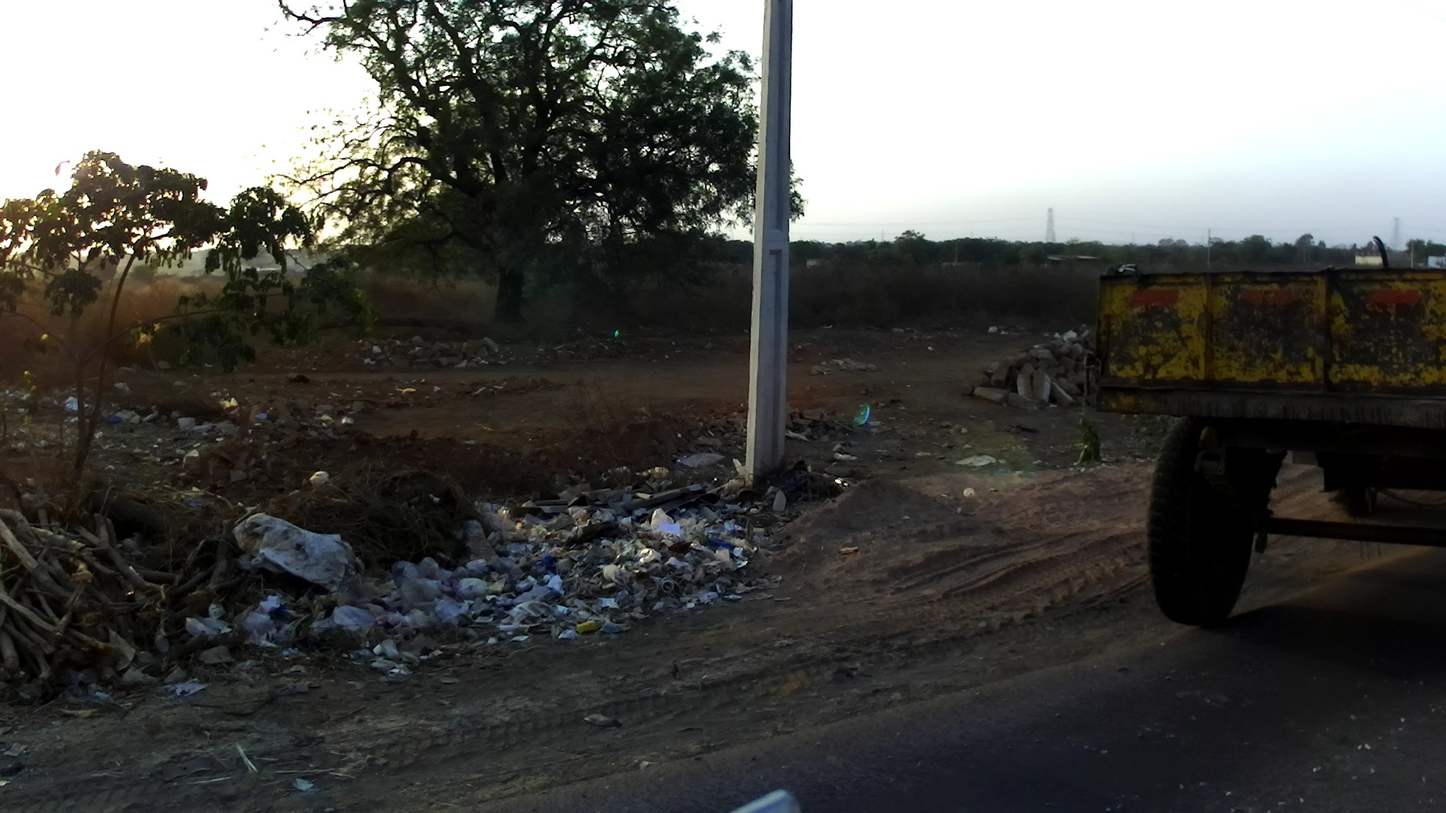vehicle fallback: (1075, 236, 1446, 628)
